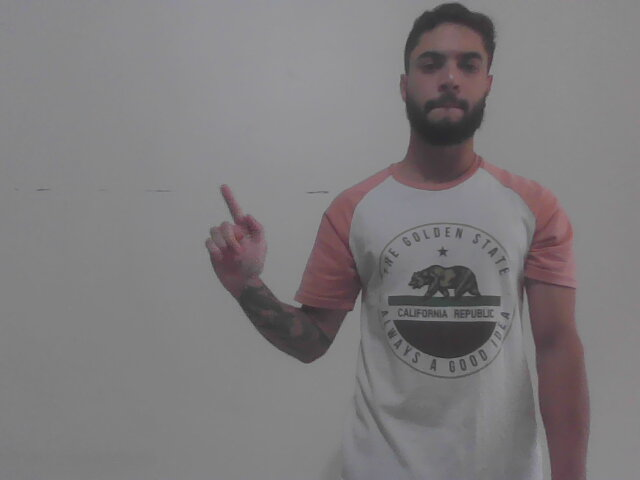z: (200, 180, 271, 289)
